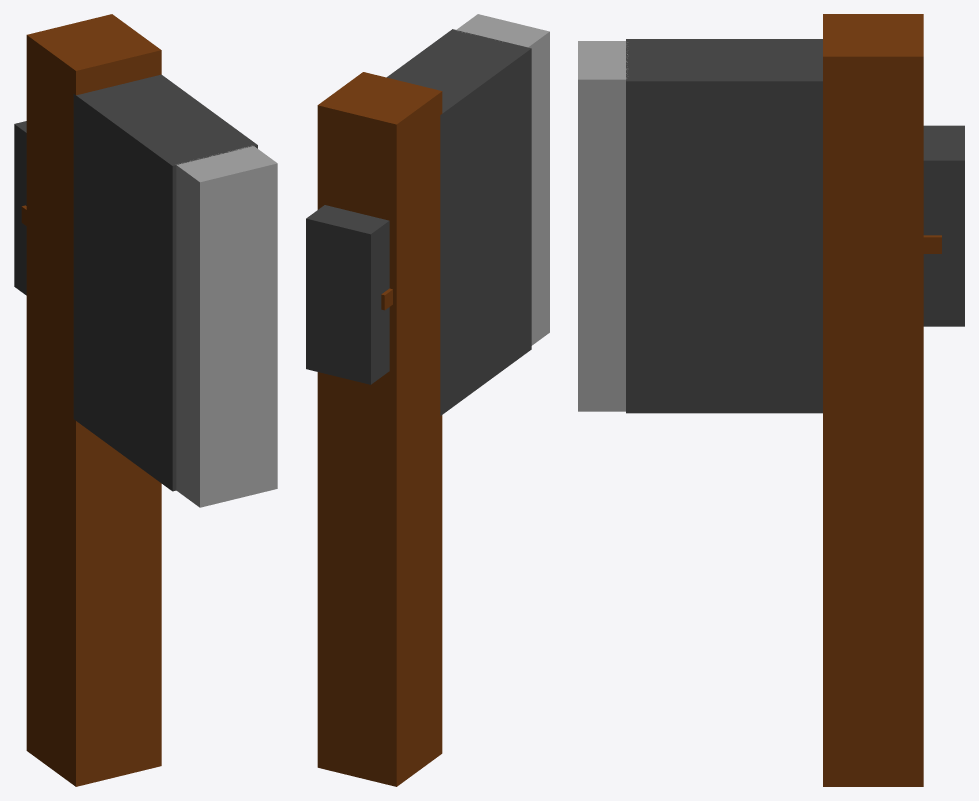
Rendered from ChopperOfPoor.fbx.
3 renders of one model, left to right at view 1: azimuth 30°, elevation 25°; view 2: azimuth 150°, elevation 25°; view 3: azimuth 270°, elevation 25°, orthographic. The views are drawn at different scales.
Parts seen in each view (by area): view 1: Cube.003, Cube.001, Cube.002, Cube.004; view 2: Cube.003, Cube.001, Cube.004, Cube.002; view 3: Cube.003, Cube.001, Cube.002, Cube.004.
Part boxes in pixels (<box>): Cube.003: <box>26,14,161,786</box>; Cube.001: <box>73,74,257,491</box>; Cube.002: <box>176,145,277,507</box>; Cube.004: <box>14,121,26,295</box>; Cube.003: <box>317,72,442,786</box>; Cube.001: <box>386,29,531,415</box>; Cube.004: <box>306,205,389,384</box>; Cube.002: <box>456,14,549,345</box>; Cube.003: <box>823,14,923,786</box>; Cube.001: <box>626,39,822,413</box>; Cube.002: <box>578,41,627,411</box>; Cube.004: <box>923,125,964,326</box>.
Bounding box in the file's own units: 22 × 176 × 84.5.
